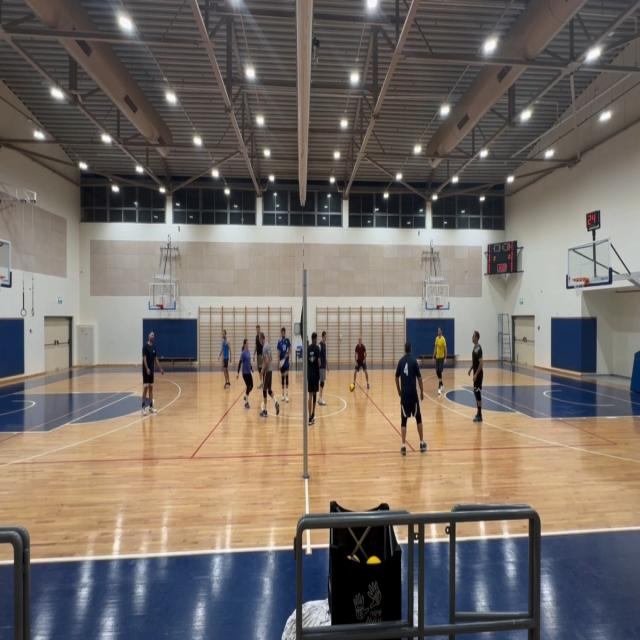volleyball: (349, 383, 355, 392)
